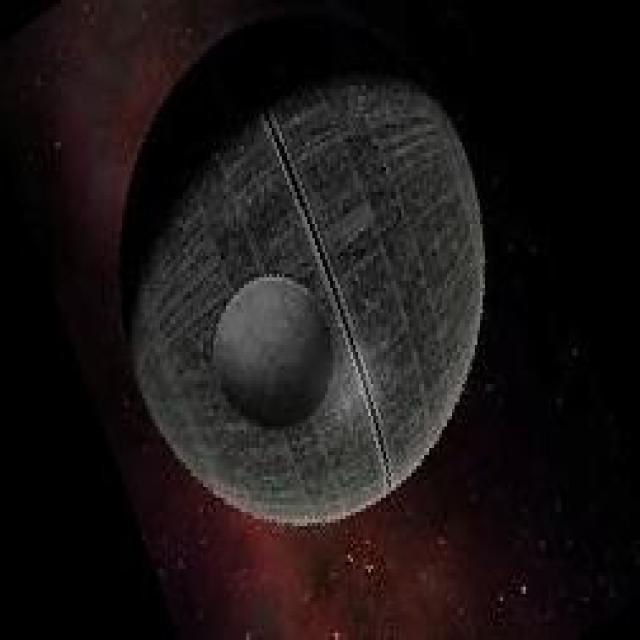Death Star: (120, 53, 490, 530)
